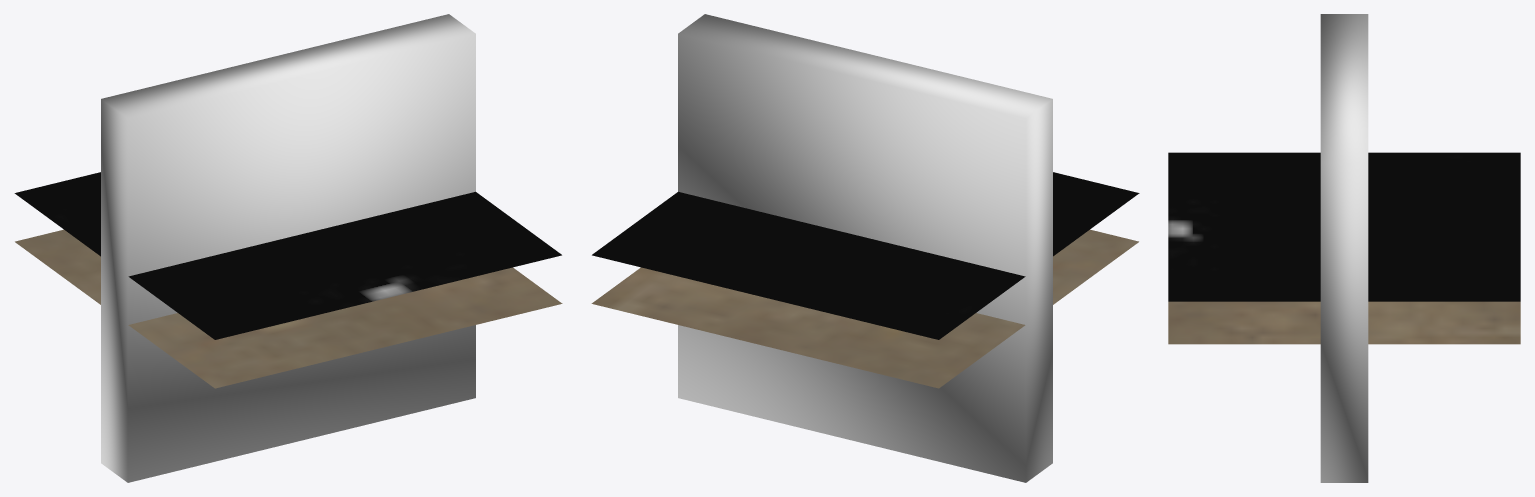
The model's file is SM_Floor_Ceiling_Small.fbx.
The picture shows the model from 3 angles, left to right: view 1: azimuth 30°, elevation 25°; view 2: azimuth 150°, elevation 25°; view 3: azimuth 270°, elevation 25°; orthographic projection. The views are drawn at different scales.
Parts seen in each view (by area): view 1: SM_Floor_Ceiling_Small_ConvexHulls, SM_Floor_Ceiling_Small; view 2: SM_Floor_Ceiling_Small_ConvexHulls, SM_Floor_Ceiling_Small; view 3: SM_Floor_Ceiling_Small, SM_Floor_Ceiling_Small_ConvexHulls.
Boxes of the visible parts, x1=… form: SM_Floor_Ceiling_Small_ConvexHulls: x1=101, y1=14, x2=475, y2=482; SM_Floor_Ceiling_Small: x1=14, y1=172, x2=562, y2=388; SM_Floor_Ceiling_Small_ConvexHulls: x1=678, y1=14, x2=1052, y2=482; SM_Floor_Ceiling_Small: x1=591, y1=172, x2=1139, y2=388; SM_Floor_Ceiling_Small: x1=1168, y1=152, x2=1520, y2=344; SM_Floor_Ceiling_Small_ConvexHulls: x1=1320, y1=14, x2=1368, y2=482.
Size of the model in its own units: 1.5 by 1.5 by 1.5.
